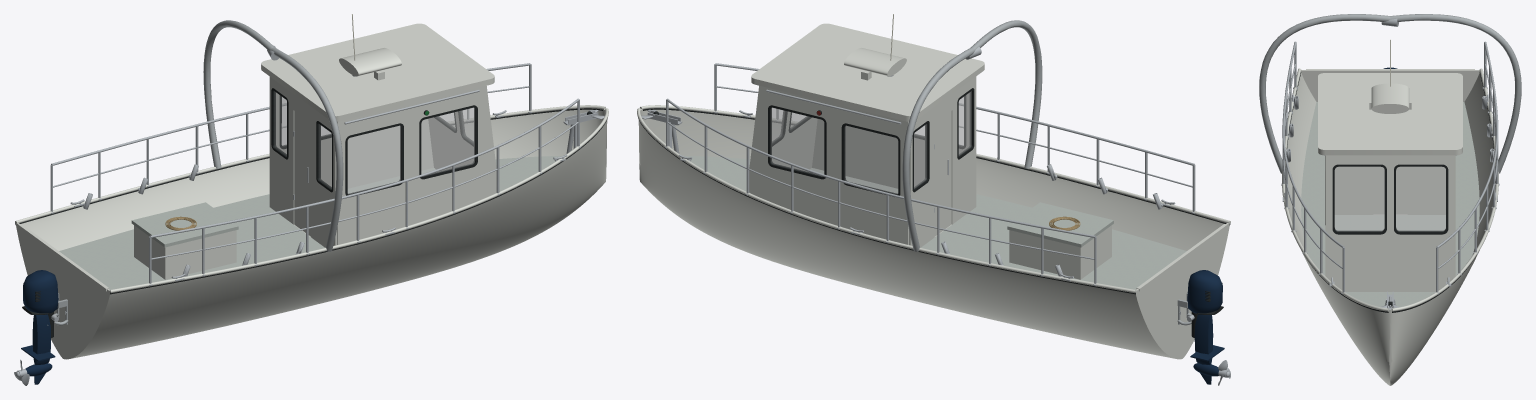
The model's file is fishing-boat.glb.
3 renders of one model, left to right at view 1: azimuth 30°, elevation 25°; view 2: azimuth 150°, elevation 25°; view 3: azimuth 270°, elevation 25°, orthographic. The views are drawn at different scales.
Visible parts, largest first — view 1: Closed navigation radar pod, Fish locker seated lid, Anchor retained roller pin, Working pilothouse raked front opening 1 finite glazing, Anchor rolling cylinder, Working gantry upright 1, Working outboard finite anti-ventilation plate; view 2: Closed navigation radar pod, Fish locker seated lid, Anchor retained roller pin, Working pilothouse raked front opening 1 finite glazing, Anchor rolling cylinder, Working gantry upright 1, Working outboard finite anti-ventilation plate; view 3: Closed navigation radar pod, Fish locker seated lid, Working pilothouse raked front opening 1 finite glazing, Anchor retained roller pin, Working gantry upright 1, Anchor rolling cylinder.
Part boxes in pixels (x1,y1,x2,y2): Closed navigation radar pod: (15,23,608,359); Fish locker seated lid: (59,156,562,289); Anchor retained roller pin: (14,45,604,385); Working pilothouse raked front opening 1 finite glazing: (274,91,474,194); Anchor rolling cylinder: (15,88,607,337); Working gantry upright 1: (54,20,343,325); Working outboard finite anti-ventilation plate: (21,270,58,384); Closed navigation radar pod: (637,23,1230,359); Fish locker seated lid: (683,155,1186,289); Anchor retained roller pin: (641,47,1230,385); Working pilothouse raked front opening 1 finite glazing: (771,91,971,194); Anchor rolling cylinder: (638,88,1230,337); Working gantry upright 1: (902,20,1191,325); Working outboard finite anti-ventilation plate: (1187,270,1224,384); Closed navigation radar pod: (1282,68,1498,385); Fish locker seated lid: (1301,102,1479,306); Working pilothouse raked front opening 1 finite glazing: (1335,167,1445,231); Anchor retained roller pin: (1281,18,1499,312); Working gantry upright 1: (1259,14,1521,173); Anchor rolling cylinder: (1286,72,1495,312).
Size of the model in its own units: 8.71 by 4.14 by 3.48.
11 materials, 6 textured.
